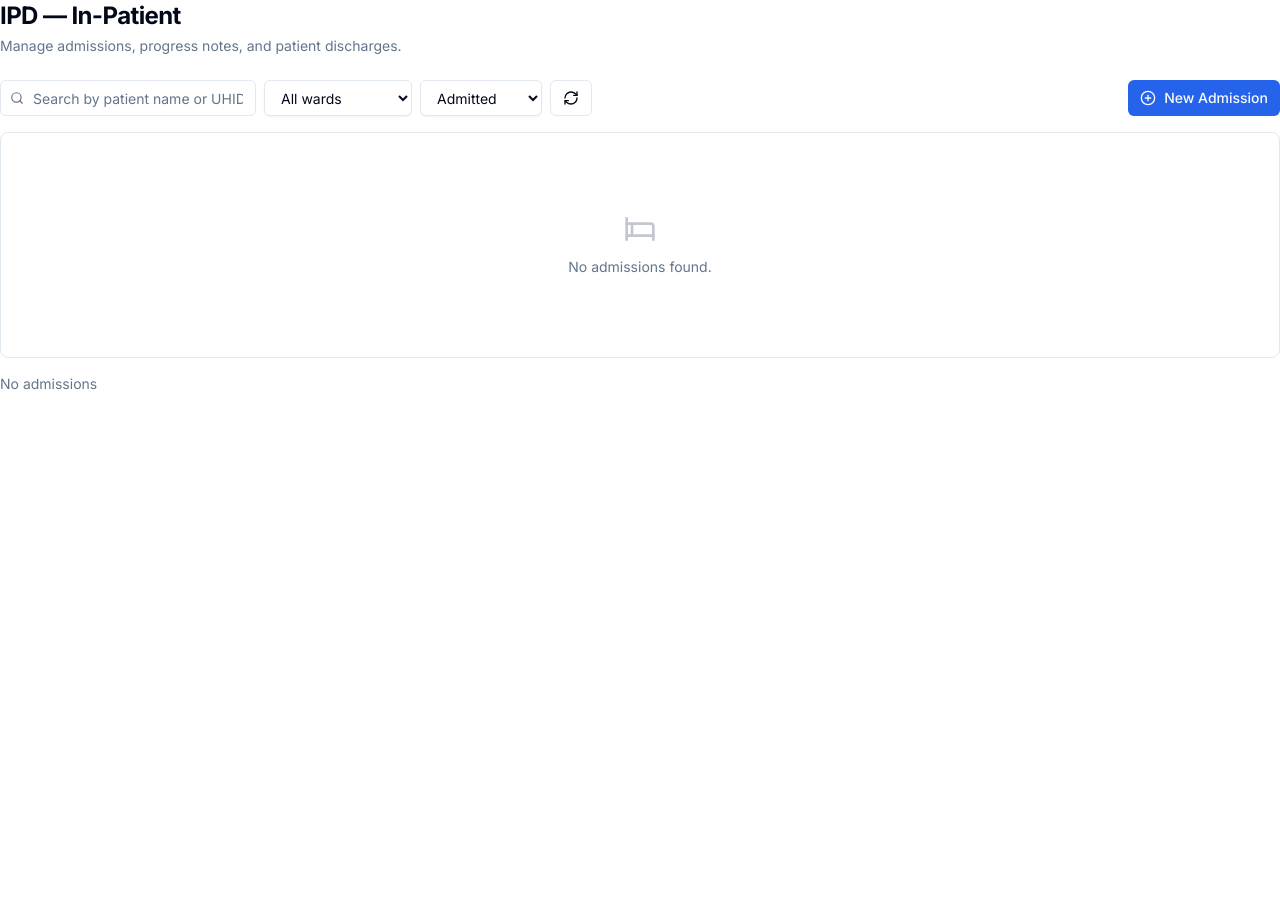
it: IPD New Admission — optional package › only ACTIVE packages are requested, and the package defaults to none
What coordinates should you click on to do the following:
click the button "New Admission"
I would click on:
 (1204, 98)
Its box is [1128, 80, 1279, 116].
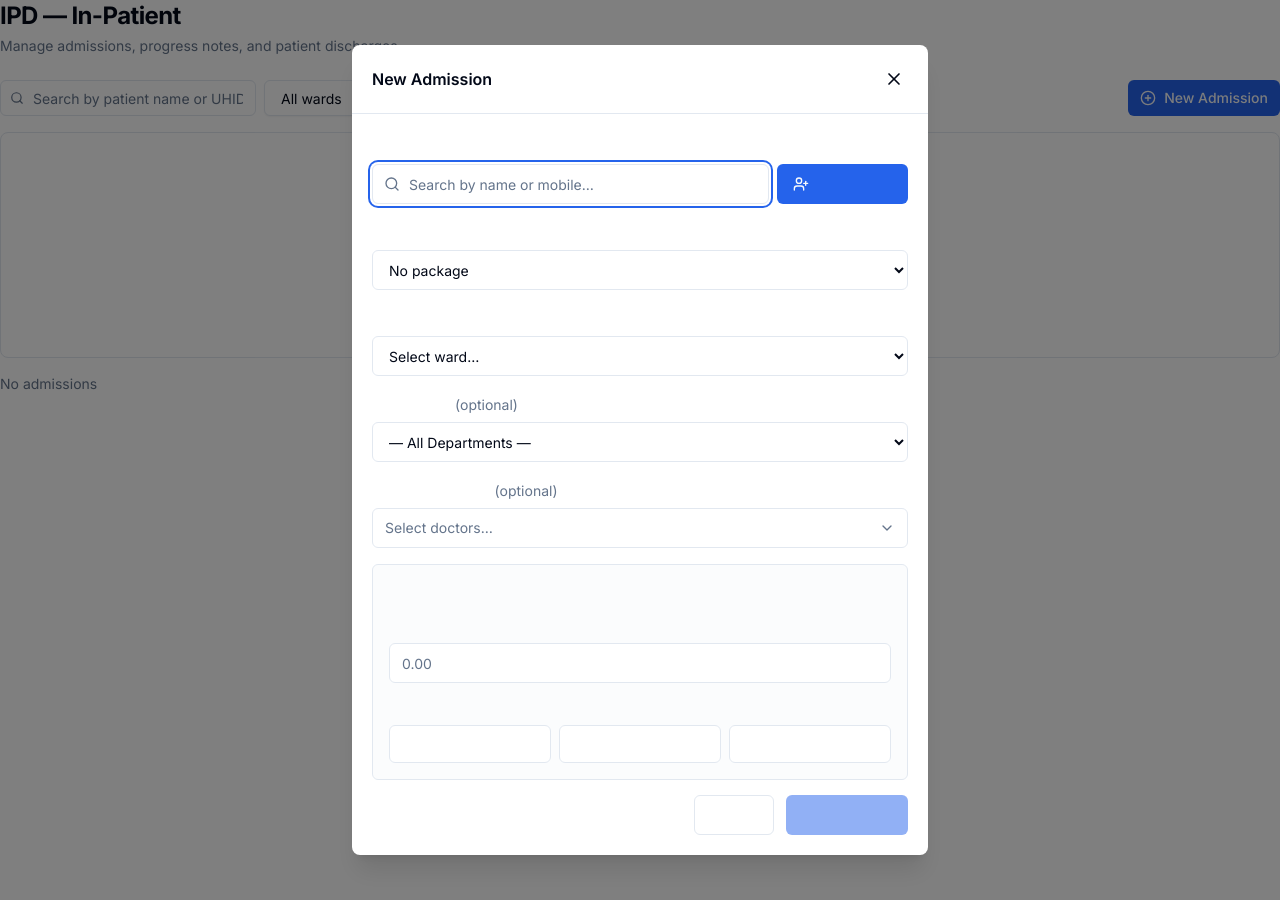
Check: the dropdown labelled "Package (optional)" shows "No package", box [372, 250, 908, 290]
Check: the dropdown labelled "Ward" is enabled, box [372, 336, 908, 376]
